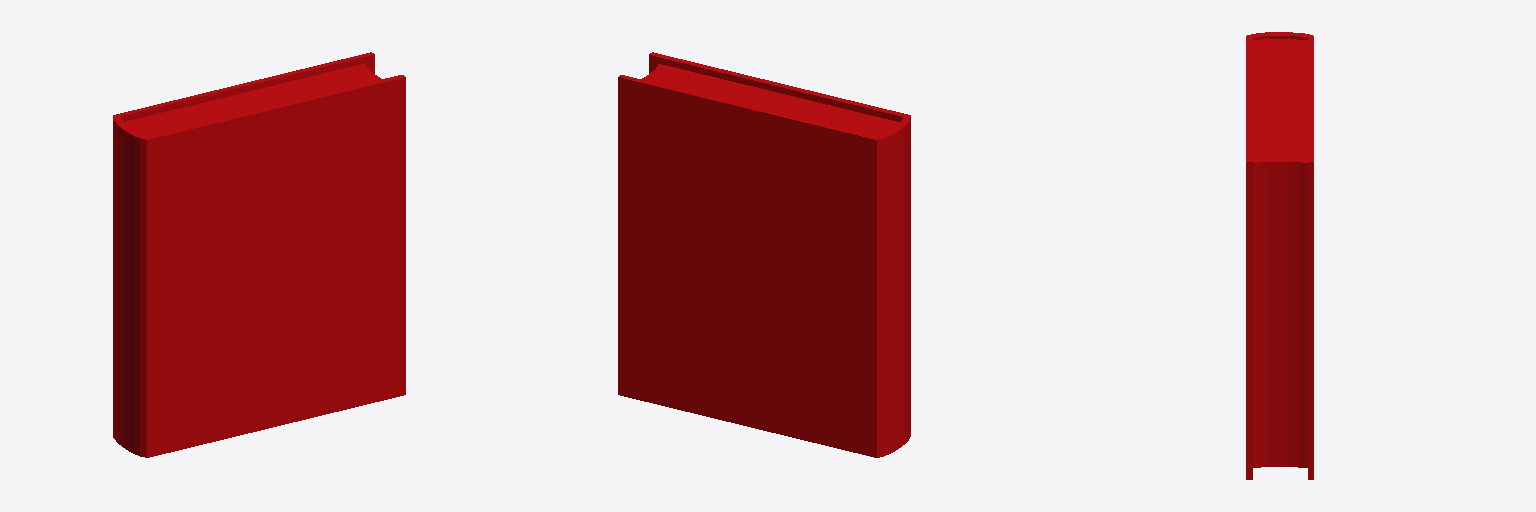
The model's file is book-red.obj.
The picture shows the model from 3 angles: view 1: azimuth 30°, elevation 25°; view 2: azimuth 150°, elevation 25°; view 3: azimuth 270°, elevation 25°; orthographic projection.
Parts seen in each view (by area): view 1: Cube.001; view 2: Cube.001; view 3: Cube.001.
Part boxes in pixels (left/top/right/bottom): Cube.001: left=113, top=52, right=405, bottom=457; Cube.001: left=618, top=52, right=910, bottom=457; Cube.001: left=1246, top=32, right=1313, bottom=479.
Size of the model in its own units: 0.4137 by 0.4733 by 0.0919.